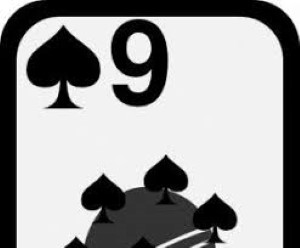NineOfSpades: (14, 12, 285, 248)
